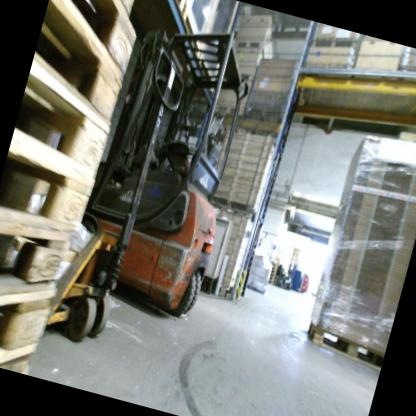forklift: (62, 0, 276, 350)
pallet: (22, 0, 145, 124), (8, 59, 123, 185), (0, 142, 101, 244), (0, 208, 82, 330), (34, 0, 148, 80), (0, 279, 57, 374), (301, 317, 388, 372), (291, 51, 352, 119), (237, 100, 286, 144), (310, 29, 359, 57), (0, 343, 40, 375), (272, 262, 277, 267), (269, 272, 274, 277), (268, 278, 272, 284), (271, 265, 276, 269), (271, 267, 276, 271), (270, 270, 275, 274), (269, 276, 273, 279)
pallet_truck: (32, 25, 201, 355)
